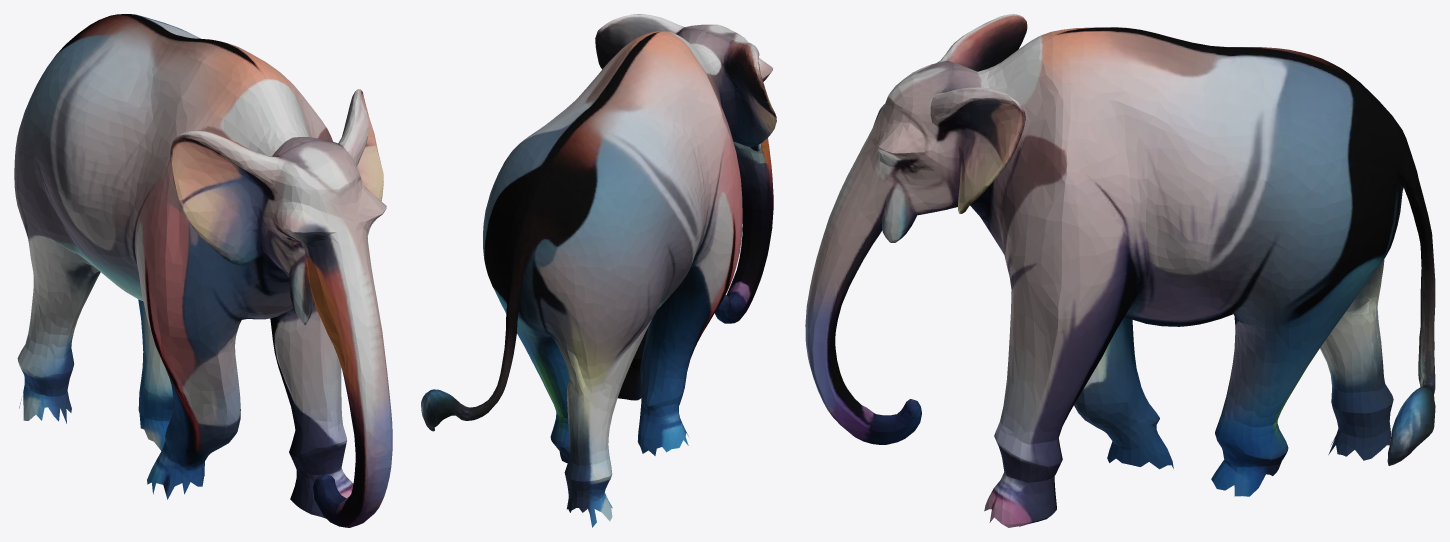
File: elephant.glb
3 views of the same model, side by side, from view 1: azimuth 30°, elevation 25°; view 2: azimuth 150°, elevation 25°; view 3: azimuth 270°, elevation 25° (orthographic). The views are drawn at different scales.
Visible parts, largest first — view 1: geometry_0; view 2: geometry_0; view 3: geometry_0.
Part boxes in pixels (<box>): geometry_0: <box>14,14,392,527</box>; geometry_0: <box>421,14,776,527</box>; geometry_0: <box>805,14,1435,527</box>.
Size of the model in its own units: 1.42 by 2.6 by 3.23.
Materials: 1 (1 with a texture image).
